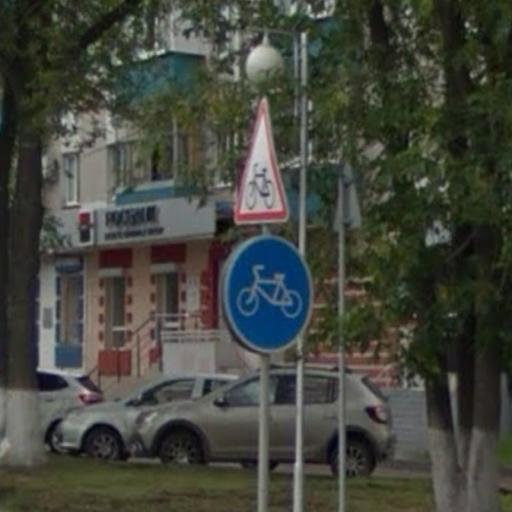traffic_sign: (222, 236, 316, 358), (233, 94, 293, 229)
